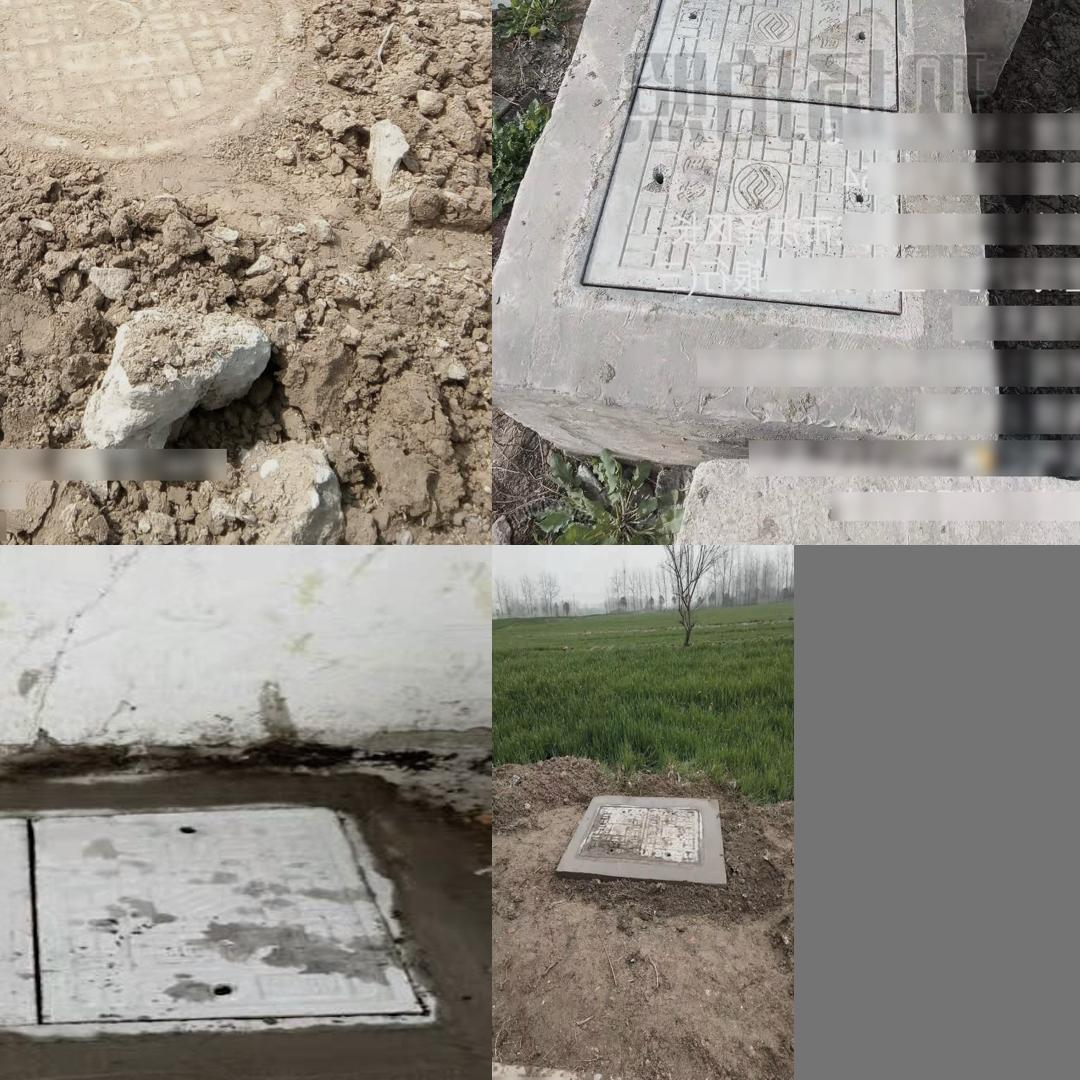good: (559, 0, 912, 326), (0, 812, 443, 1027), (0, 0, 305, 154), (559, 774, 727, 884)
